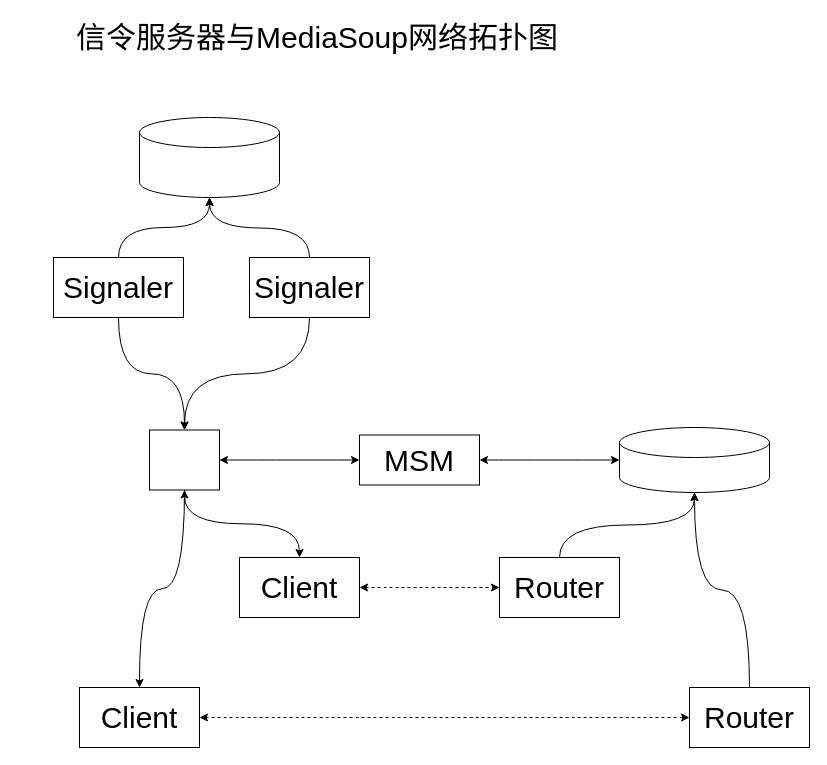
The diagram is 827 pixels wide and 765 high, and some of its shapes have lost their labels. The shapes that lost their labels are listed below. From the top down, each one's centre as x and y in pixels, then its label:
the point at 209,157: Redis
the point at 184,459: NG
the point at 694,459: MQTT
